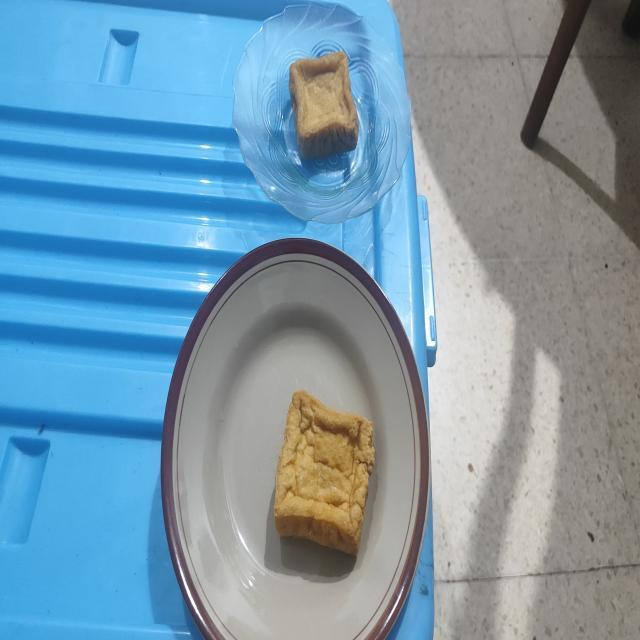tahu_goreng: (274, 390, 374, 554), (288, 49, 358, 160)
